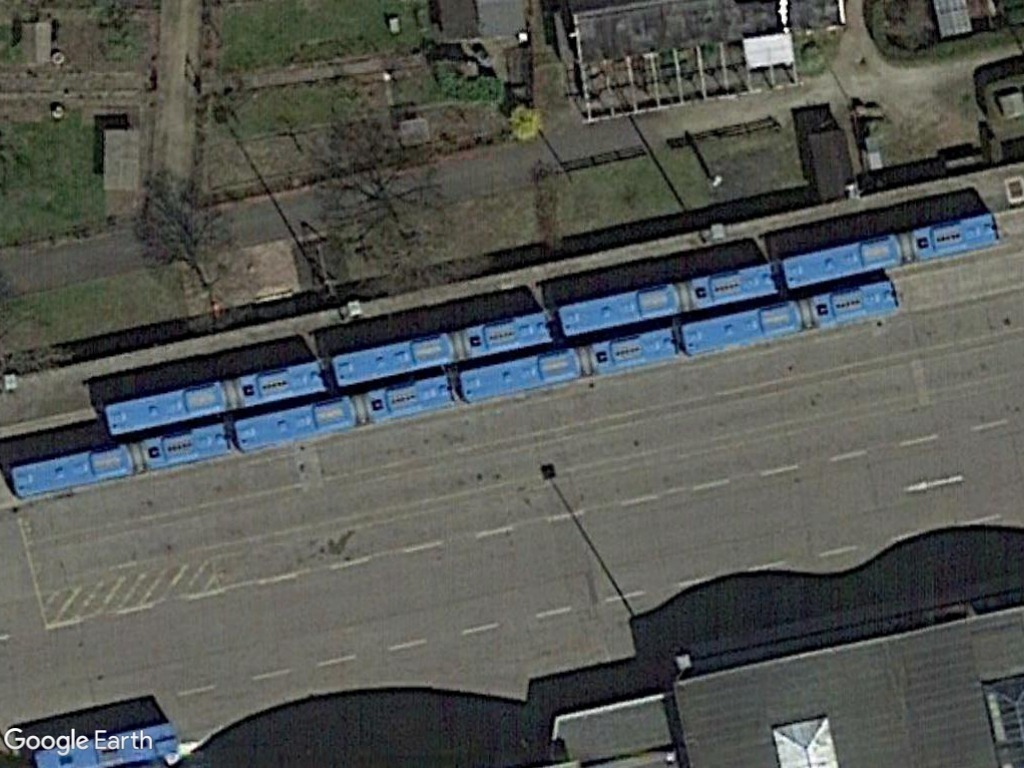bus: (455, 342, 587, 407), (674, 296, 806, 360), (8, 438, 139, 502), (232, 390, 360, 455), (554, 279, 691, 339), (330, 328, 459, 391), (102, 378, 235, 437), (782, 232, 906, 294), (679, 253, 787, 315), (358, 366, 460, 431), (134, 417, 237, 479), (452, 304, 561, 362), (581, 321, 684, 380), (230, 356, 332, 414), (903, 211, 1000, 267), (802, 279, 901, 333)
